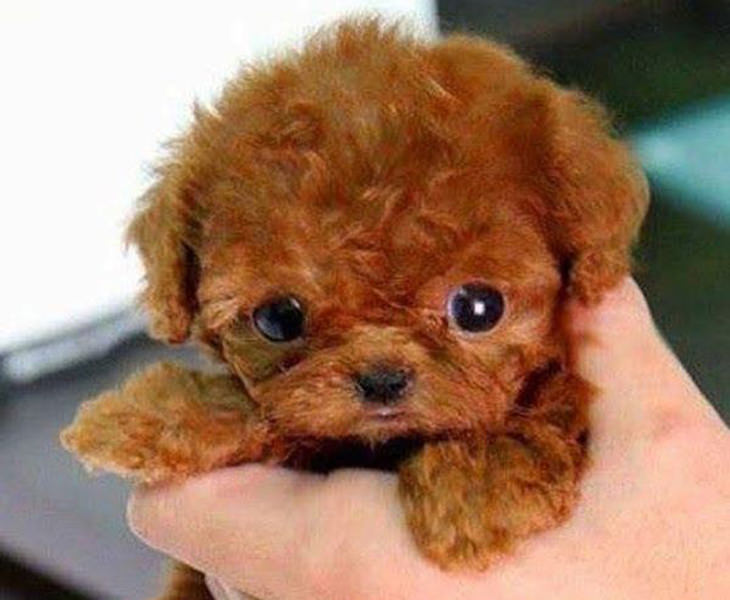dog: (106, 24, 648, 539)
